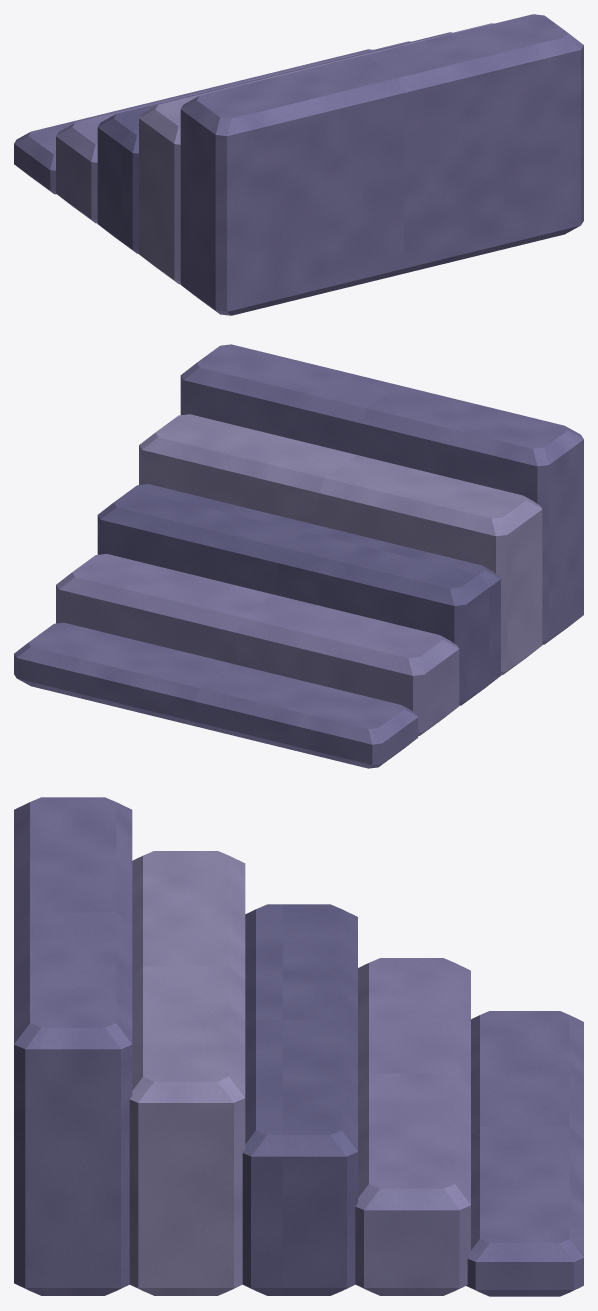
The model's file is Prop_StoneSteps.obj.
3 views of the same model, one above another, from view 1: azimuth 30°, elevation 25°; view 2: azimuth 150°, elevation 25°; view 3: azimuth 270°, elevation 25° (orthographic). The views are drawn at different scales.
Visible parts, largest first — view 1: Steps; view 2: Steps; view 3: Steps.
Part boxes in pixels (box(x1,y1,x2,y2)): Steps: box(14, 14, 583, 315); Steps: box(14, 344, 583, 768); Steps: box(14, 797, 583, 1296).
Size of the model in its own units: 2.15 by 1.1 by 2.12.
Materials: 4 (4 with a texture image).
